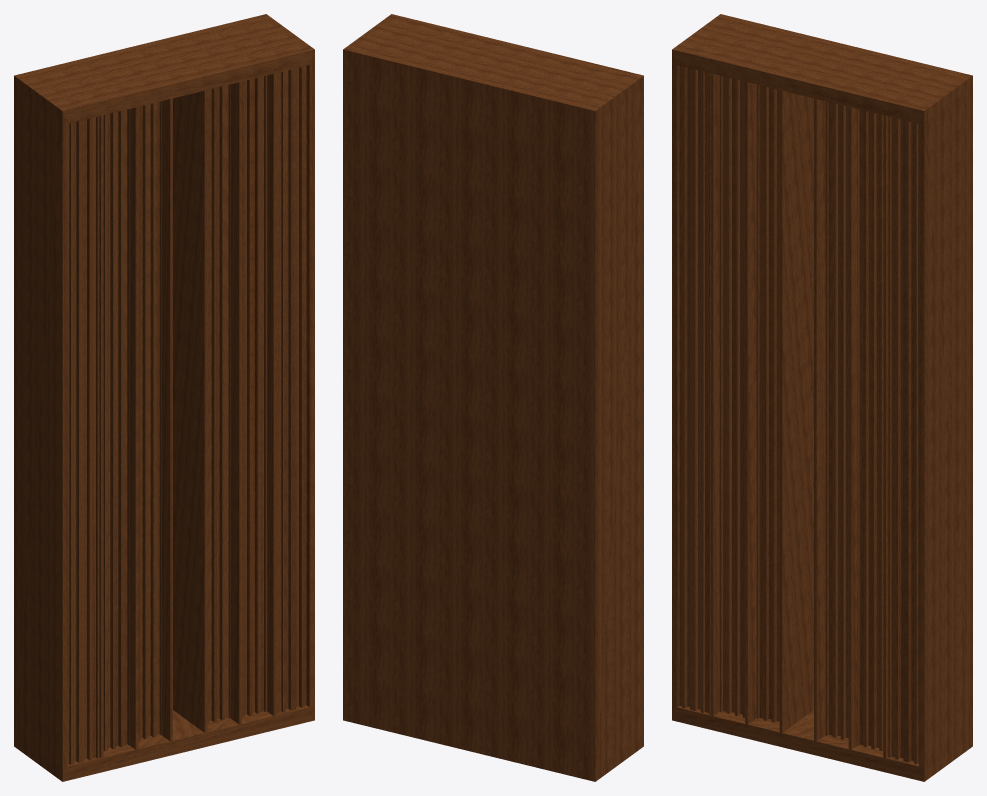
The model's file is RQS450FX.glb.
3 views of the same model, side by side, from view 1: azimuth 30°, elevation 25°; view 2: azimuth 150°, elevation 25°; view 3: azimuth 330°, elevation 25° (orthographic).
Visible parts, largest first — view 1: 5407; view 2: 5407; view 3: 5407.
Part boxes in pixels (x1=…): 5407: x1=14, y1=14, x2=314, y2=781; 5407: x1=343, y1=14, x2=643, y2=781; 5407: x1=672, y1=14, x2=972, y2=781.
Size of the model in its own units: 0.6001 by 1.52 by 0.2.
1 material, 1 textured.
